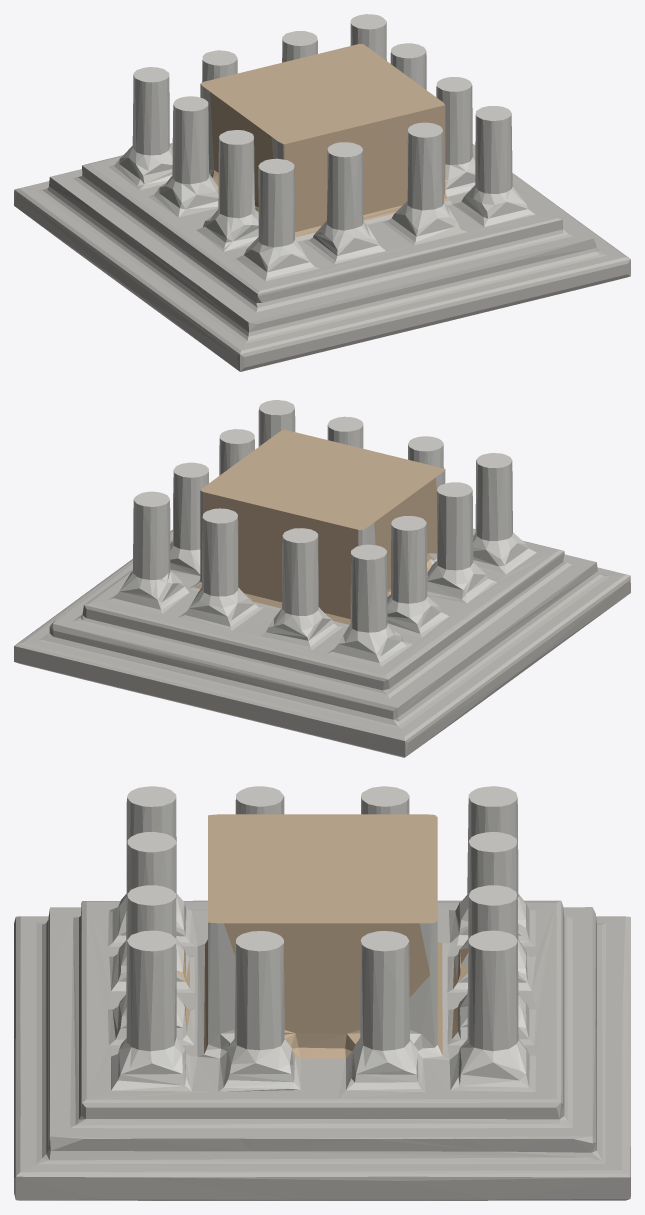
Rendered from etape-1.glb.
3 renders of one model, top to bottom at view 1: azimuth 30°, elevation 25°; view 2: azimuth 150°, elevation 25°; view 3: azimuth 270°, elevation 25°, orthographic. The views are drawn at different scales.
Visible parts, largest first — view 1: geometry_0; view 2: geometry_0; view 3: geometry_0.
Part boxes in pixels (x1,y1,x2,y2): geometry_0: [14, 14, 630, 371]; geometry_0: [14, 400, 630, 757]; geometry_0: [14, 786, 630, 1200].
Bounding box in the file's own units: 0.9042 × 0.3297 × 0.9043.
